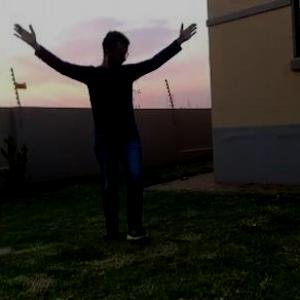takeoff: (1, 0, 220, 253)
